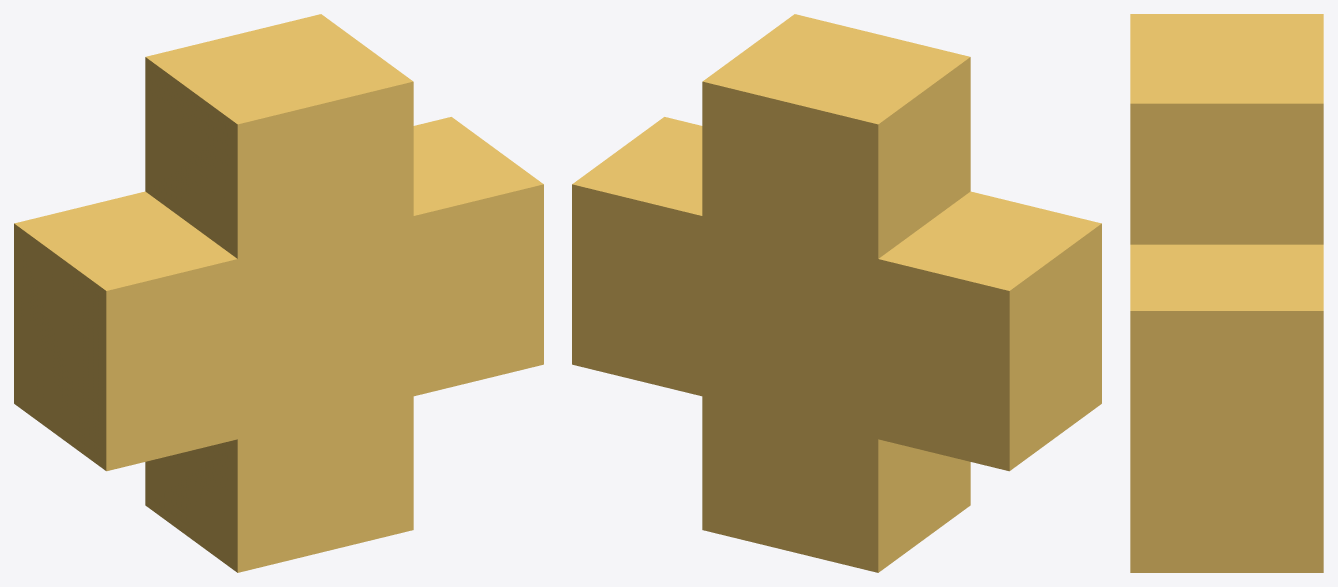
File: Health_cross.glb
The picture shows the model from 3 angles, left to right: view 1: azimuth 30°, elevation 25°; view 2: azimuth 150°, elevation 25°; view 3: azimuth 270°, elevation 25°; orthographic projection. The views are drawn at different scales.
Parts seen in each view (by area): view 1: health_cross; view 2: health_cross; view 3: health_cross.
Boxes of the visible parts, x1,y1,x2,y2 form: health_cross: [14, 14, 543, 572]; health_cross: [572, 14, 1101, 572]; health_cross: [1130, 14, 1323, 572].
Size of the model in its own units: 0.6531 by 0.6399 by 0.2387.
